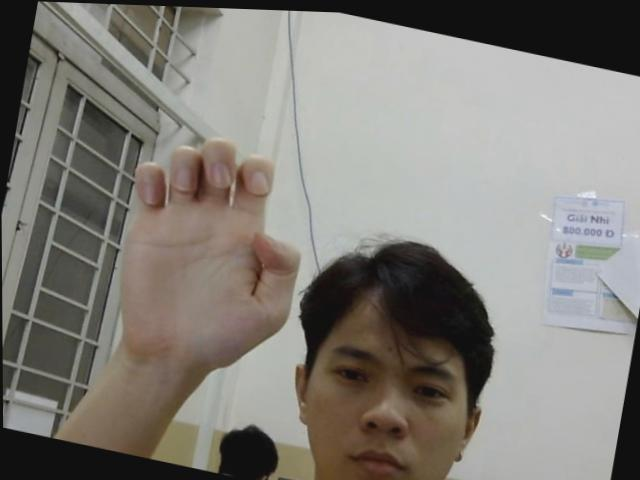E: (99, 116, 319, 382)
